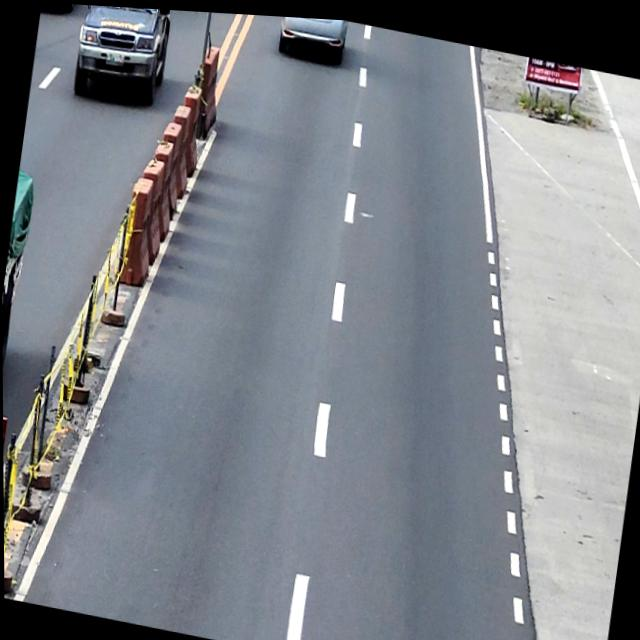Car: (69, 3, 177, 109), (276, 13, 348, 60)
License-Plate: (104, 48, 125, 67)
